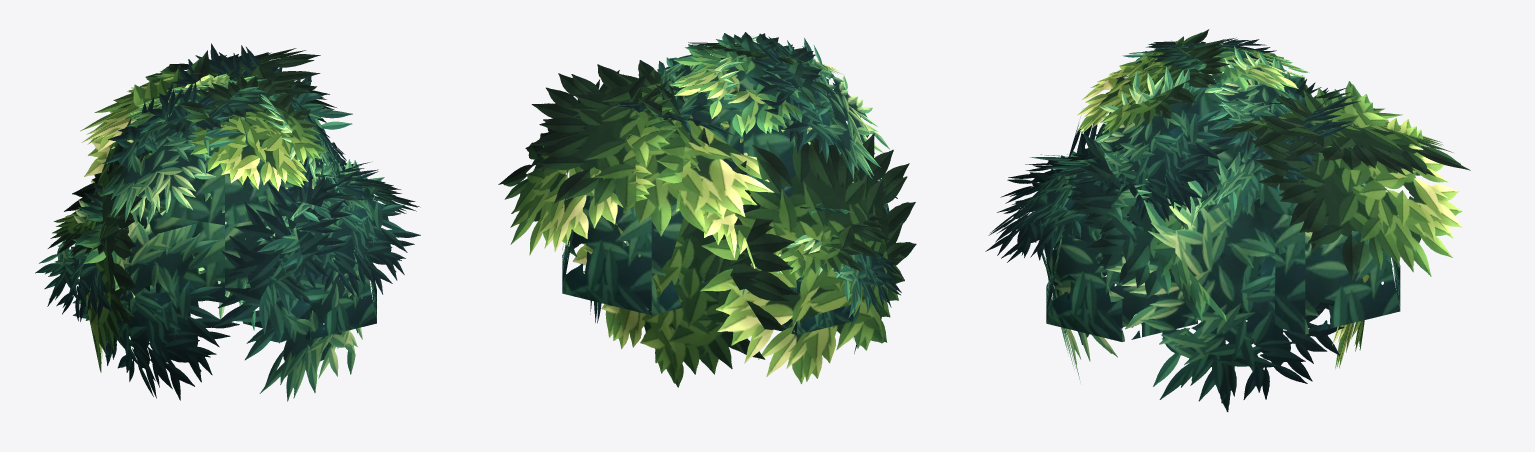
Rendered from shrub_round_b.glb.
The picture shows the model from 3 angles, left to right: view 1: azimuth 30°, elevation 25°; view 2: azimuth 150°, elevation 25°; view 3: azimuth 270°, elevation 25°; orthographic projection. The views are drawn at different scales.
Visible parts, largest first — view 1: shrub_round_b; view 2: shrub_round_b; view 3: shrub_round_b.
Part boxes in pixels (x1,y1,x2,y2): shrub_round_b: (35,43,420,401); shrub_round_b: (498,32,916,387); shrub_round_b: (985,29,1470,411).
Bounding box in the file's own units: 1.92 × 1.72 × 2.37.
1 material, 1 textured.
